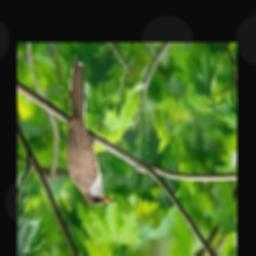Cuckoo: (66, 61, 116, 206)
